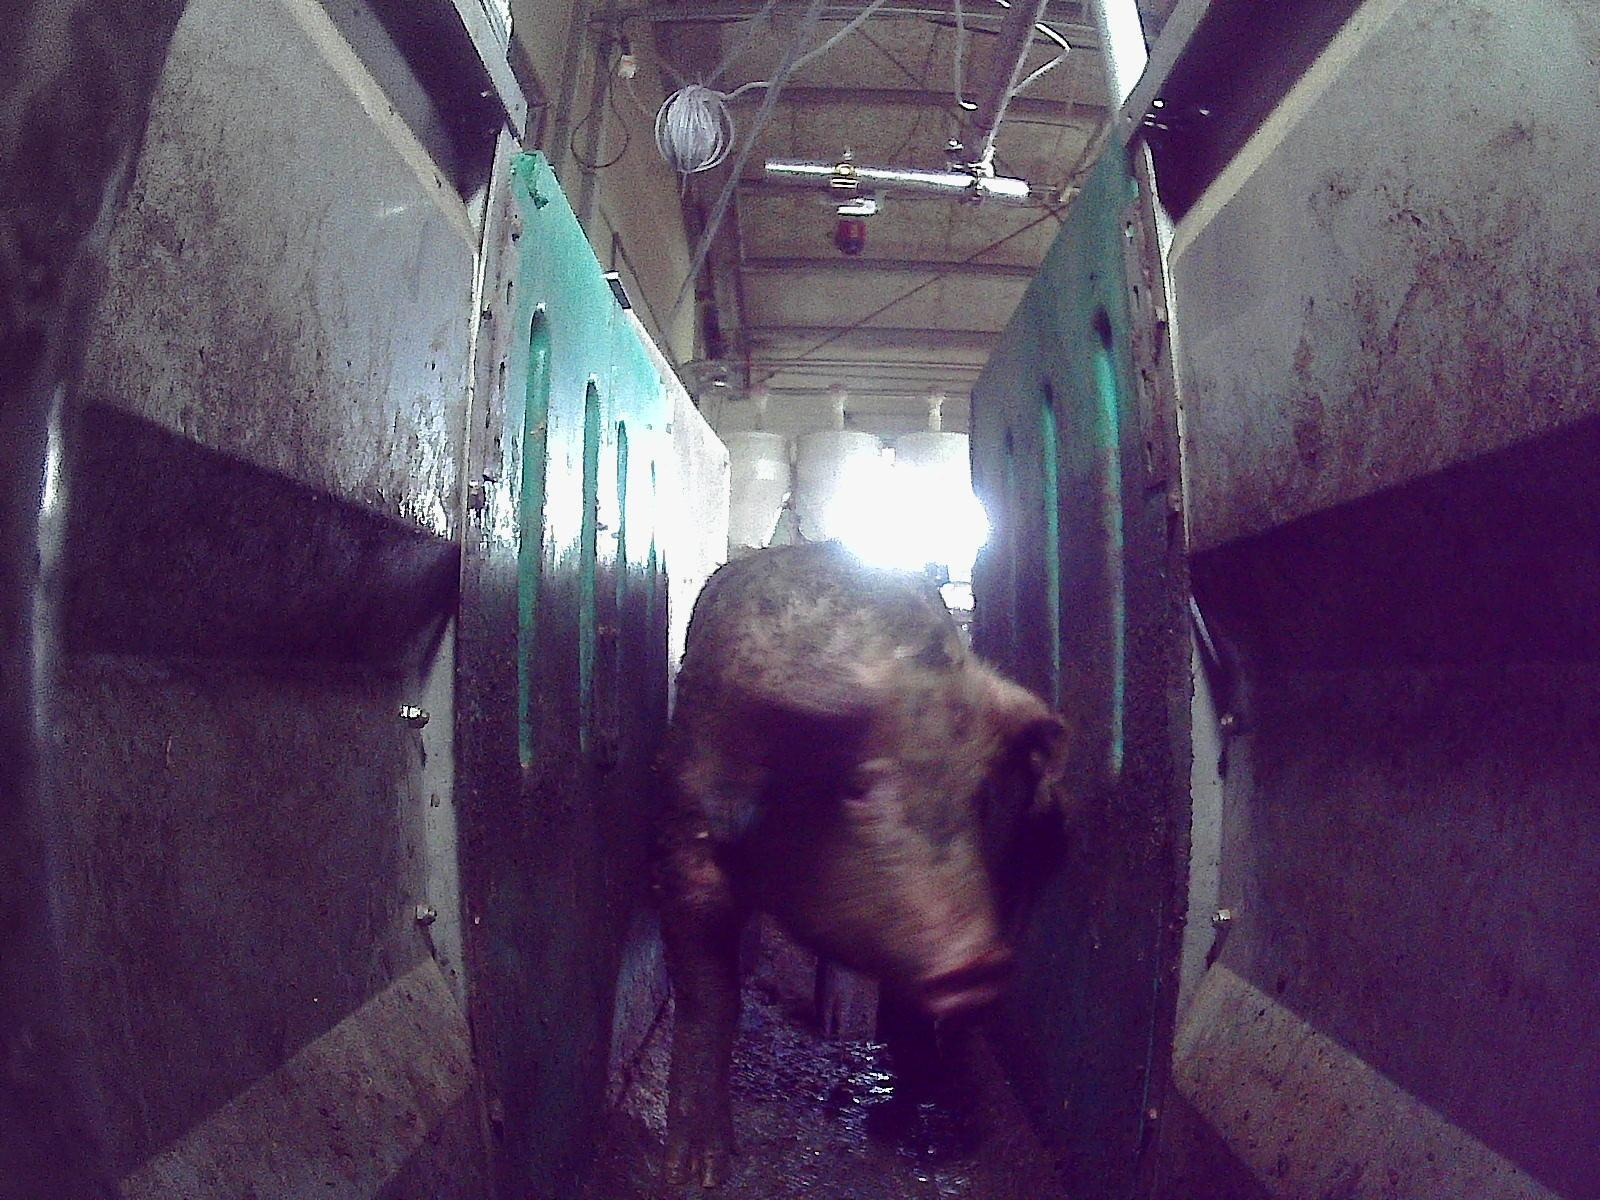Face: (762, 671, 1016, 1016)
